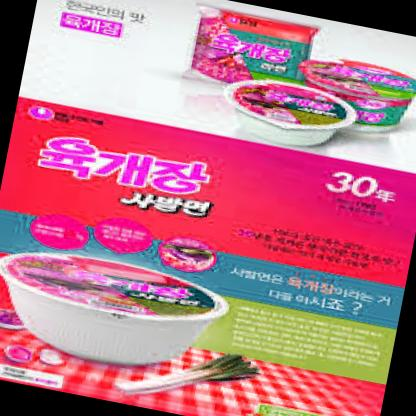Ramen: (0, 241, 224, 380), (279, 44, 416, 147), (218, 69, 363, 158)
